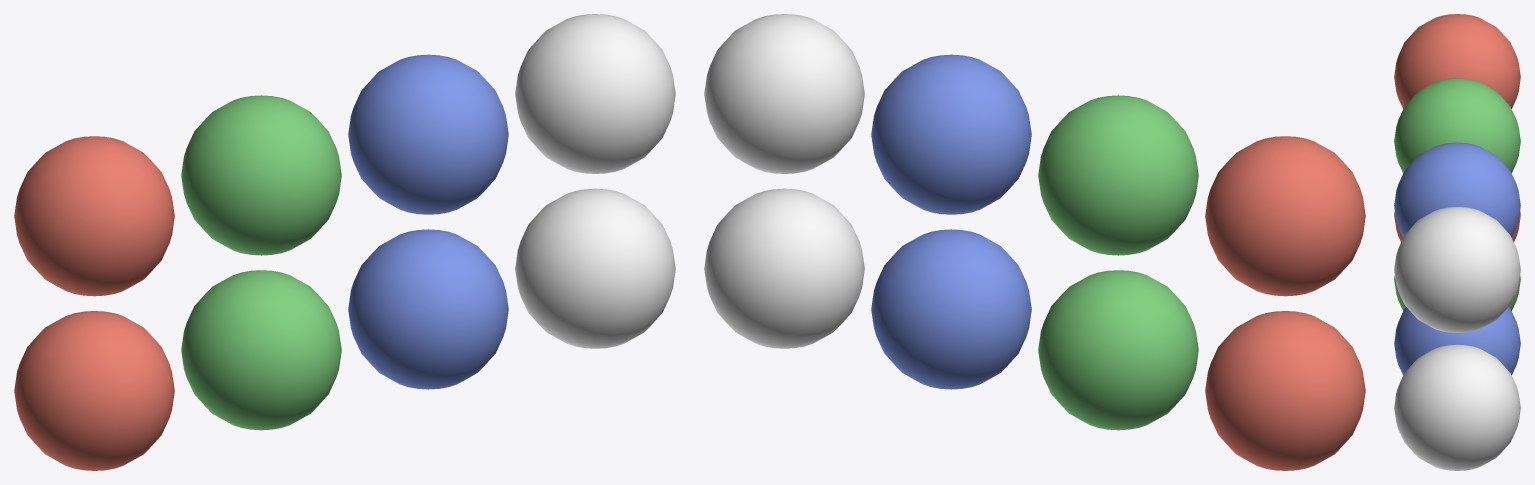
Rendered from metal_rough_spheres.gltf.
3 views of the same model, side by side, from view 1: azimuth 30°, elevation 25°; view 2: azimuth 150°, elevation 25°; view 3: azimuth 270°, elevation 25° (orthographic). The views are drawn at different scales.
Size of the model in its own units: 9.2 by 4.4 by 2.
